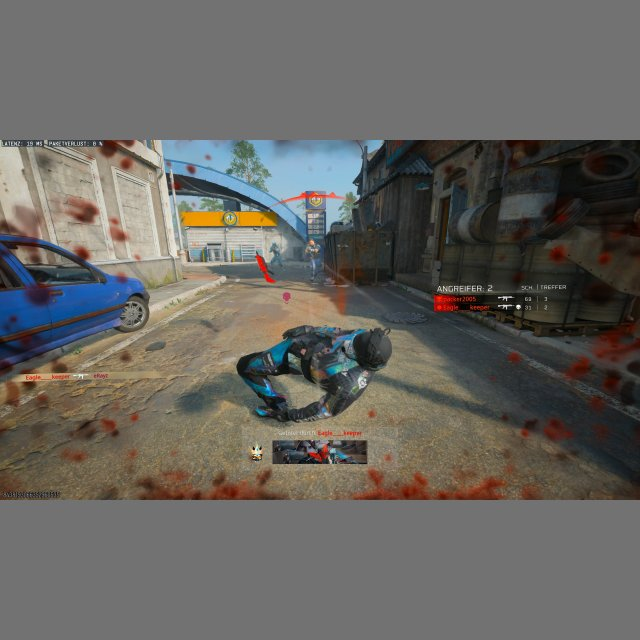head: (352, 328, 393, 370), (271, 242, 277, 248)
player: (304, 238, 322, 282), (267, 241, 286, 269)
